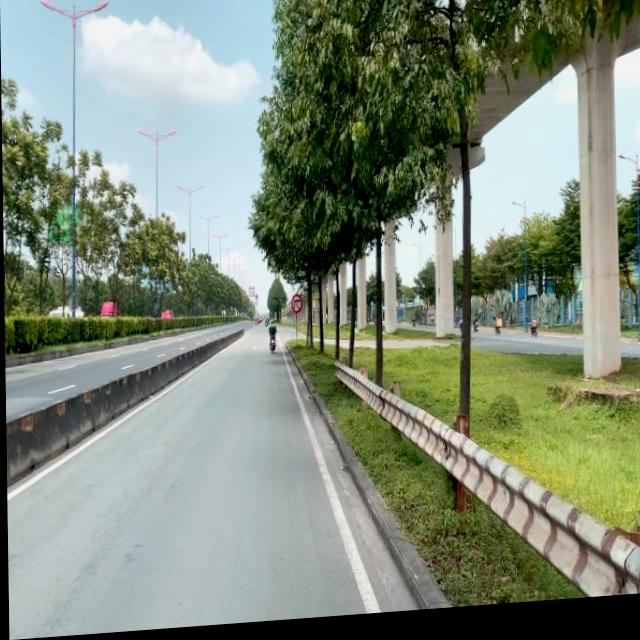Cam re phai: (290, 298, 302, 319)
